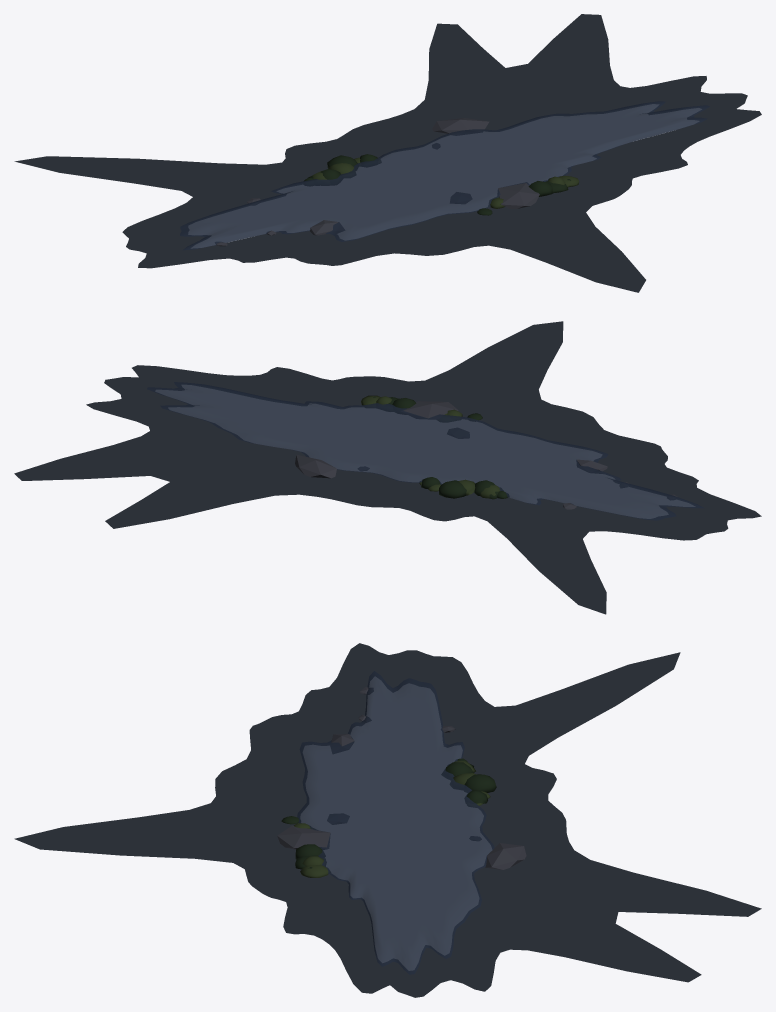
The model's file is SM_Cripta_Poca_B.glb.
3 views of the same model, one above another, from view 1: azimuth 30°, elevation 25°; view 2: azimuth 150°, elevation 25°; view 3: azimuth 270°, elevation 25° (orthographic). The views are drawn at different scales.
Visible parts, largest first — view 1: Anel, Agua, Pedrinhas, Limo; view 2: Anel, Agua, Limo, Pedrinhas; view 3: Anel, Agua, Limo, Pedrinhas.
Boxes of the visible parts, left/top/right/bottom form: Anel: left=14, top=14, right=761, bottom=292; Agua: left=180, top=101, right=709, bottom=250; Pedrinhas: left=216, top=118, right=539, bottom=246; Limo: left=304, top=154, right=579, bottom=215; Anel: left=14, top=321, right=761, bottom=614; Agua: left=147, top=382, right=704, bottom=520; Limo: left=361, top=395, right=507, bottom=499; Pedrinhas: left=295, top=401, right=677, bottom=509; Anel: left=14, top=643, right=761, bottom=997; Agua: left=297, top=671, right=494, bottom=974; Limo: left=281, top=758, right=496, bottom=877; Pedrinhas: left=277, top=687, right=526, bottom=869.
Size of the model in its own units: 1.8 by 0.0356 by 1.6.
